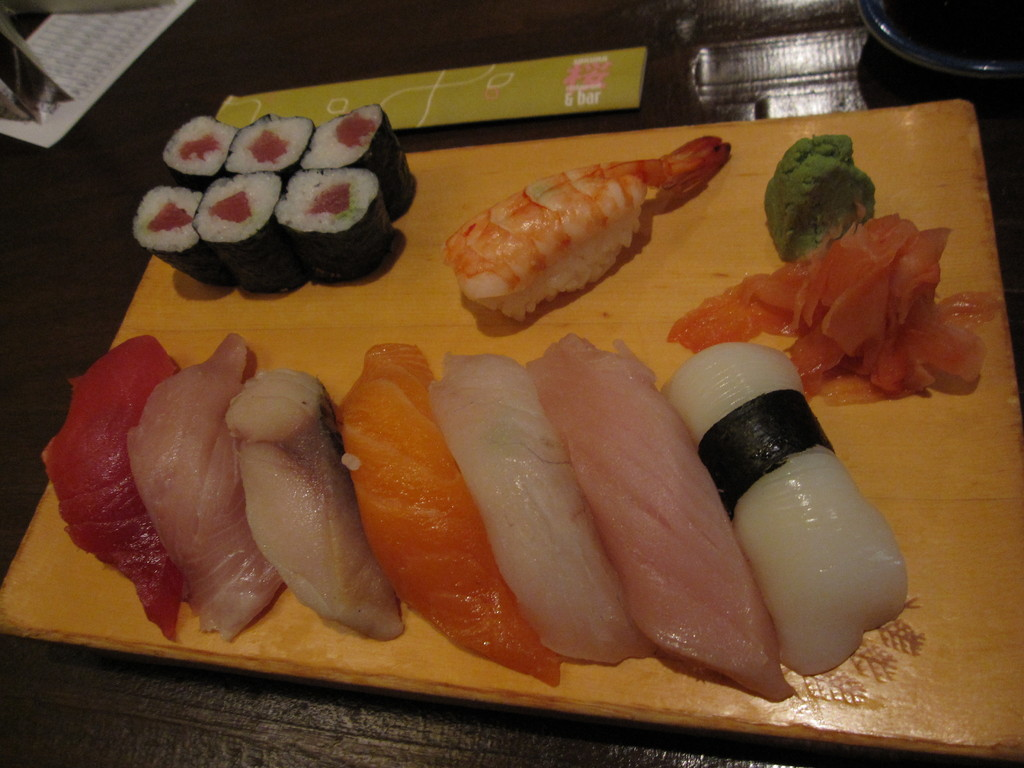sushi: (297, 97, 422, 220), (271, 168, 403, 283), (191, 170, 307, 299), (129, 172, 239, 295), (216, 103, 314, 177), (154, 114, 236, 193)
